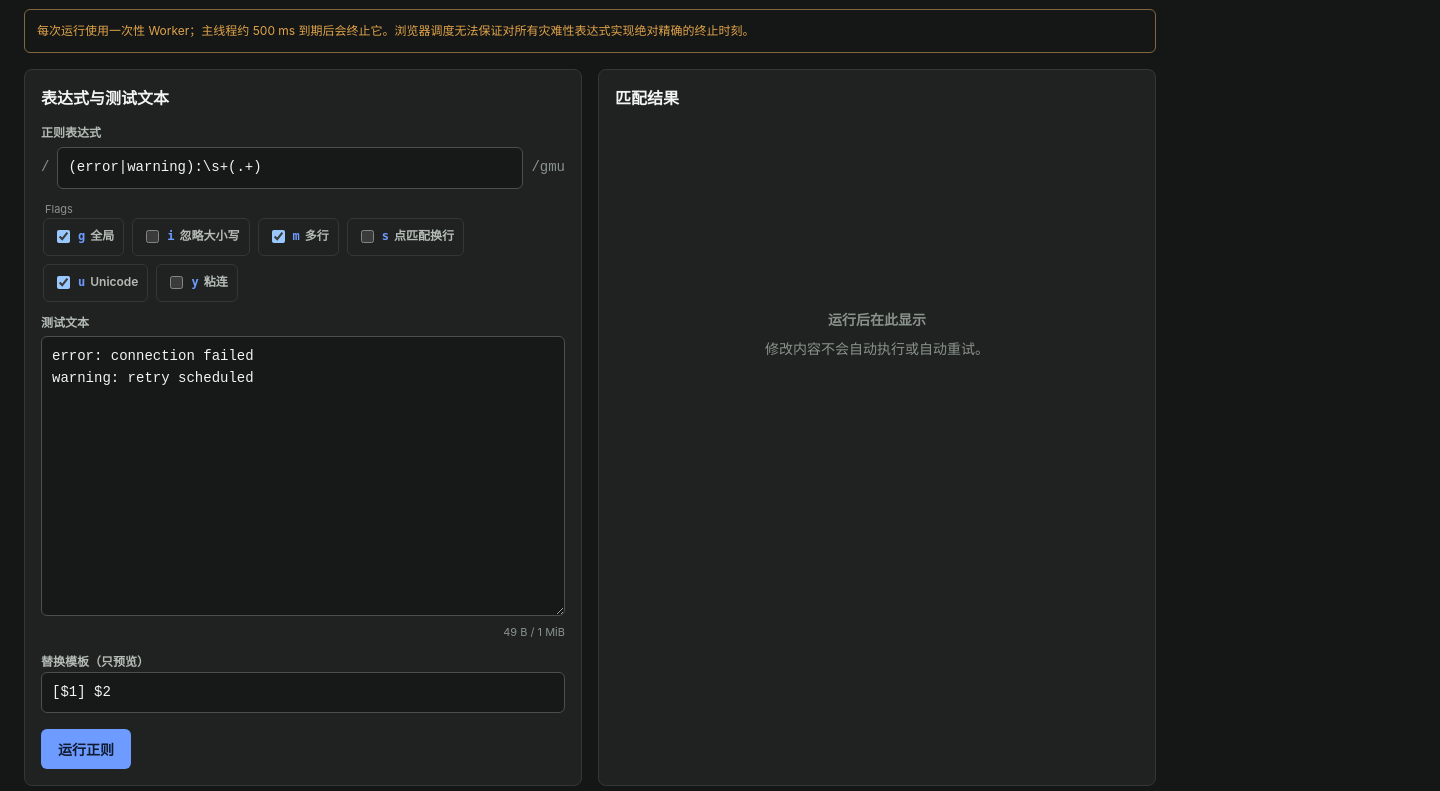
Test: RegexToolView replacement preview copy › copies the exact replacement preview without re-running or rewriting the source text
(page scrolled)
Click the button with class "button--primary". click: point(86, 749)
box: [41,729,131,769]
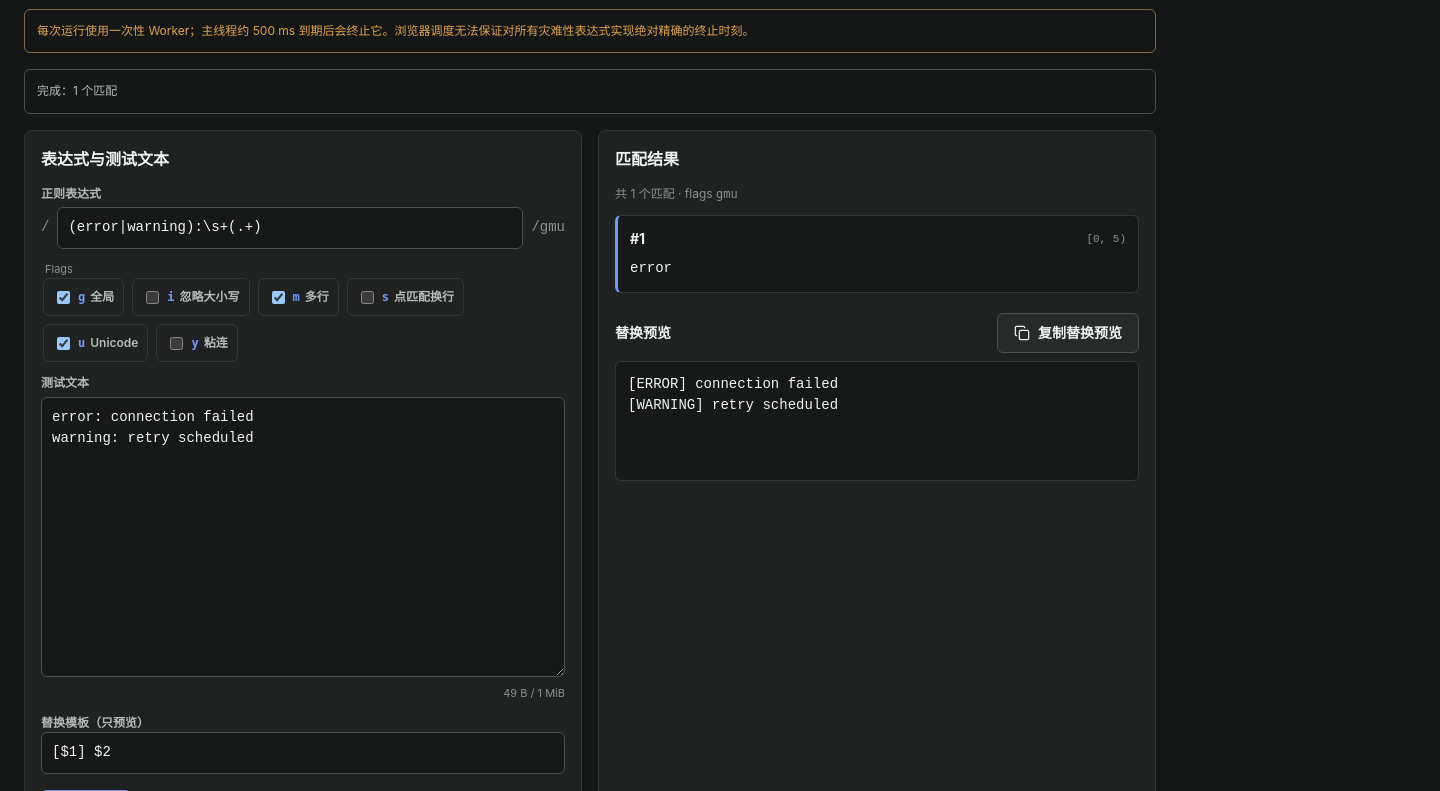
Result: the button "复制替换预览" is shown
Click the button "复制替换预览". click: point(1068, 333)
box: [997,313,1139,353]
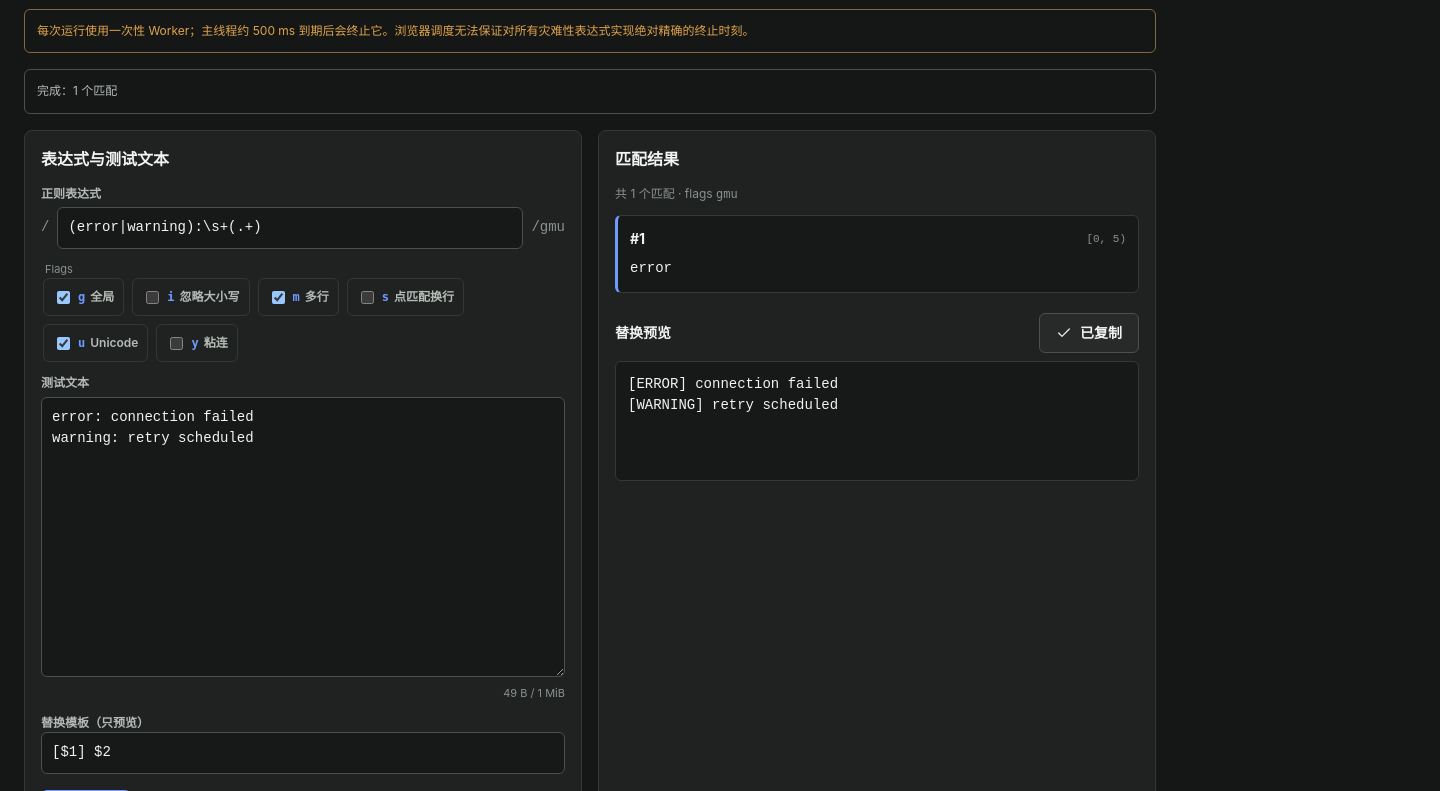
Result: the button "已复制" is shown at [1039,313,1139,353]
